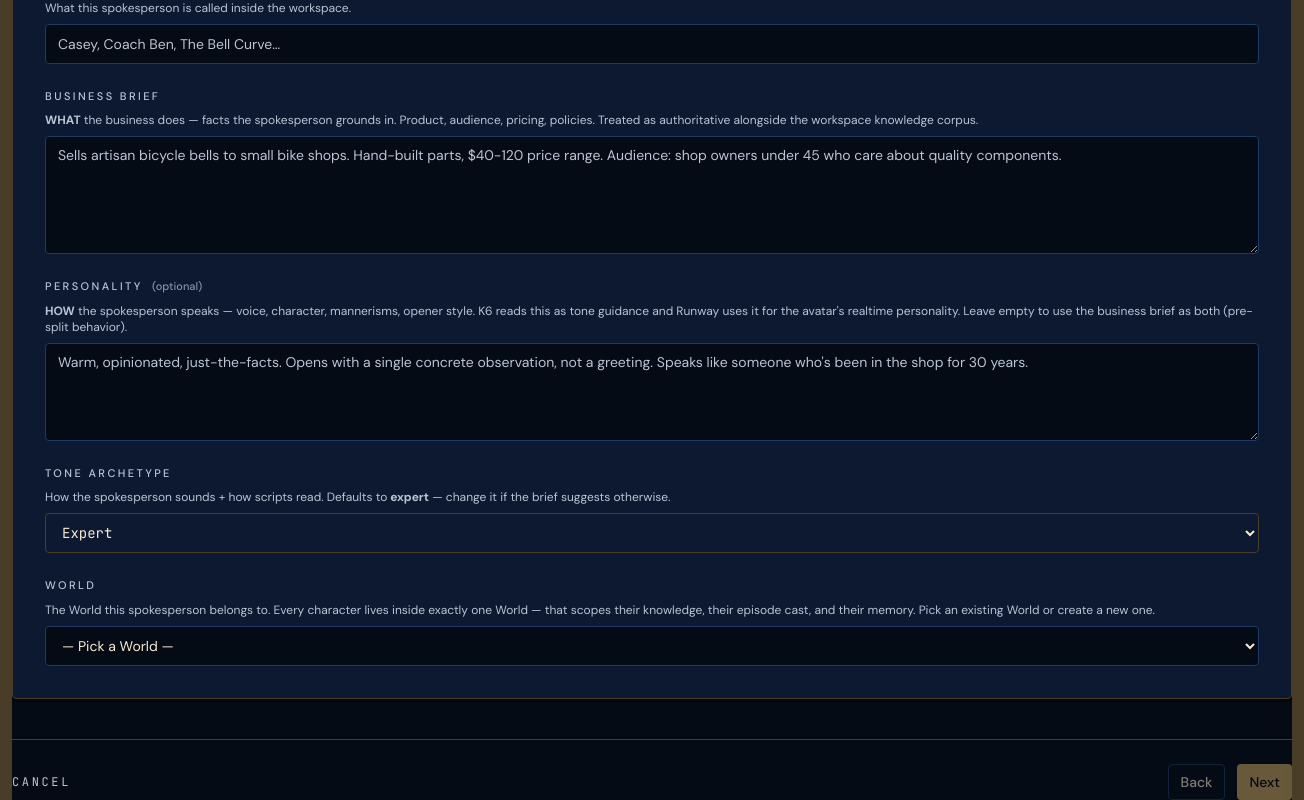
Step 1 World picker (SESSION 277 Slice 5) › opens the inline create surface when '+ Create new World…' is picked
(page scrolled)
Select "+ Create new World…" in the dropdown with test id "wizard-world-select" at {"x": 652, "y": 646}, box 45,626 -> 1259,666
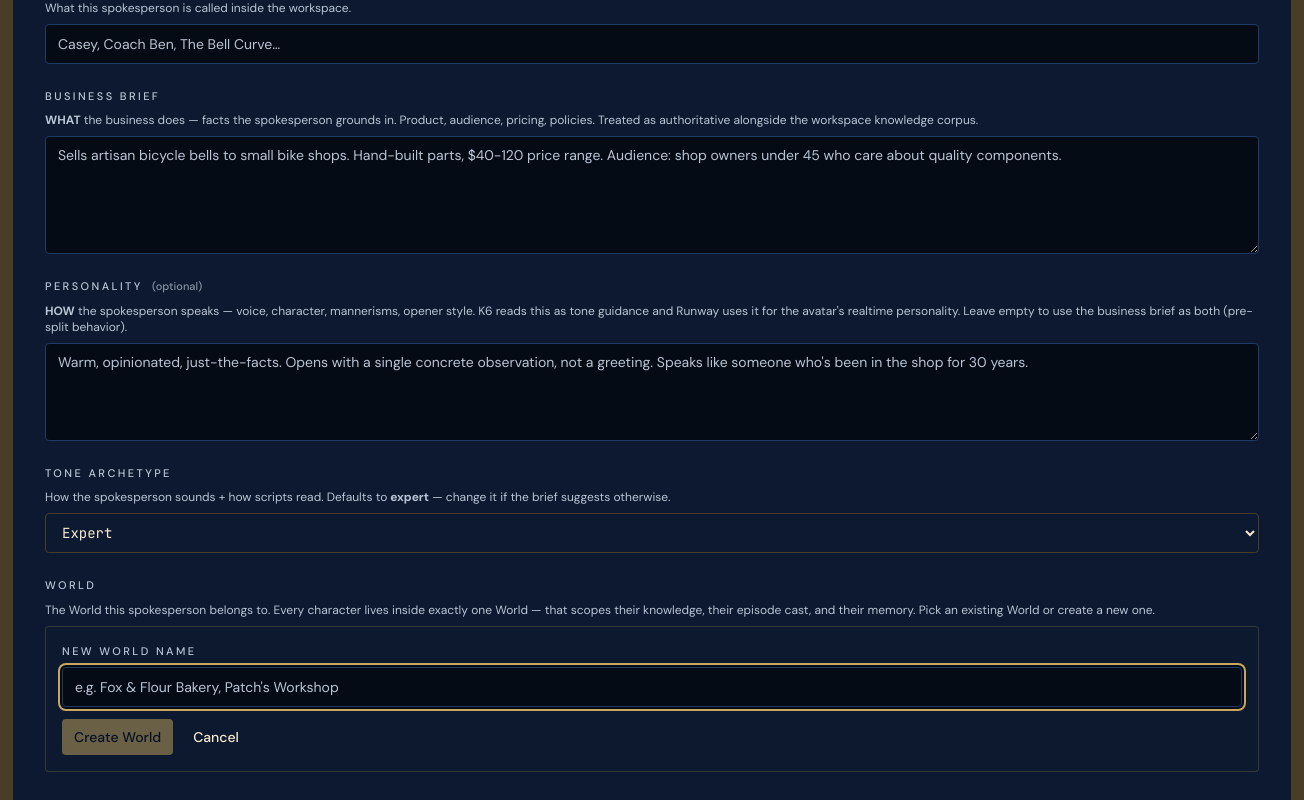
expect the form with test id "wizard-world-create-panel" is shown: met, box 45,626 -> 1259,772
expect the field with test id "wizard-world-new-name" is shown: met, box 62,667 -> 1242,707
expect the button with test id "wizard-world-create-submit" is disabled: met, box 62,719 -> 173,755
